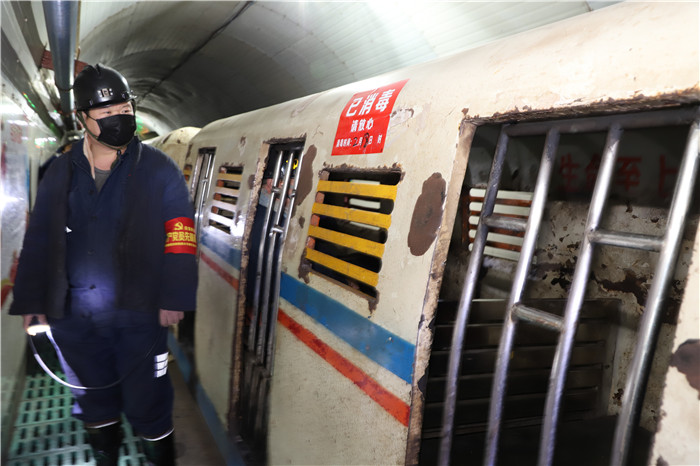helmet: (65, 62, 162, 155)
